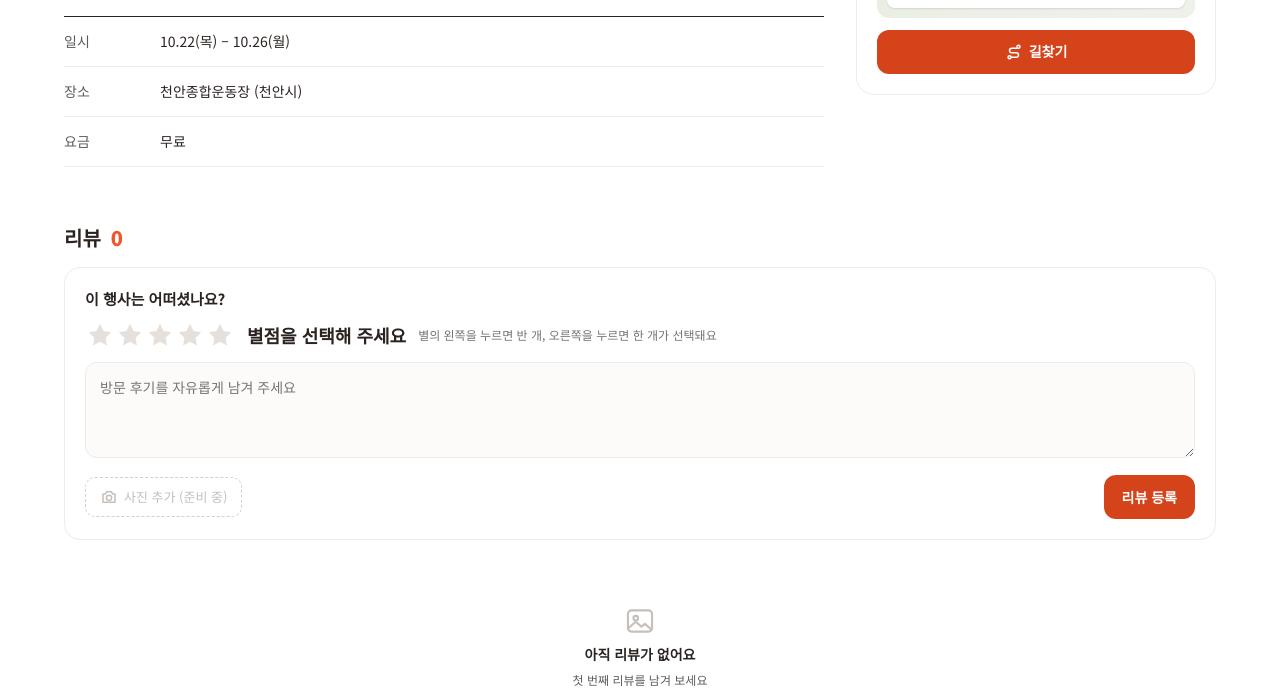
Test: EventDetail › REVIEW_ALREADY_EXISTS 는 친절한 안내를 보여준다
(page scrolled)
Click the radio button named "4점". click: (198,335)
box: x1=190 y1=320 x2=205 y2=350
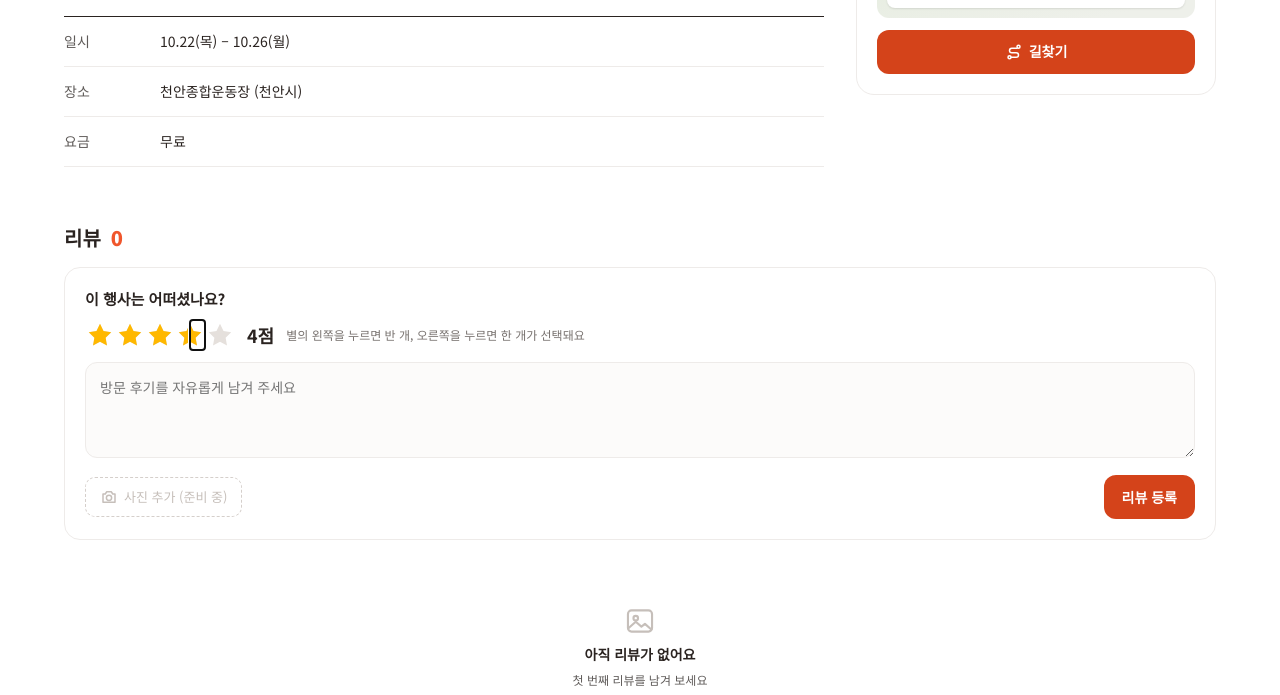
Type "좋아요" into the text box named "리뷰 내용". click: (640,410)
box: x1=85 y1=362 x2=1195 y2=458
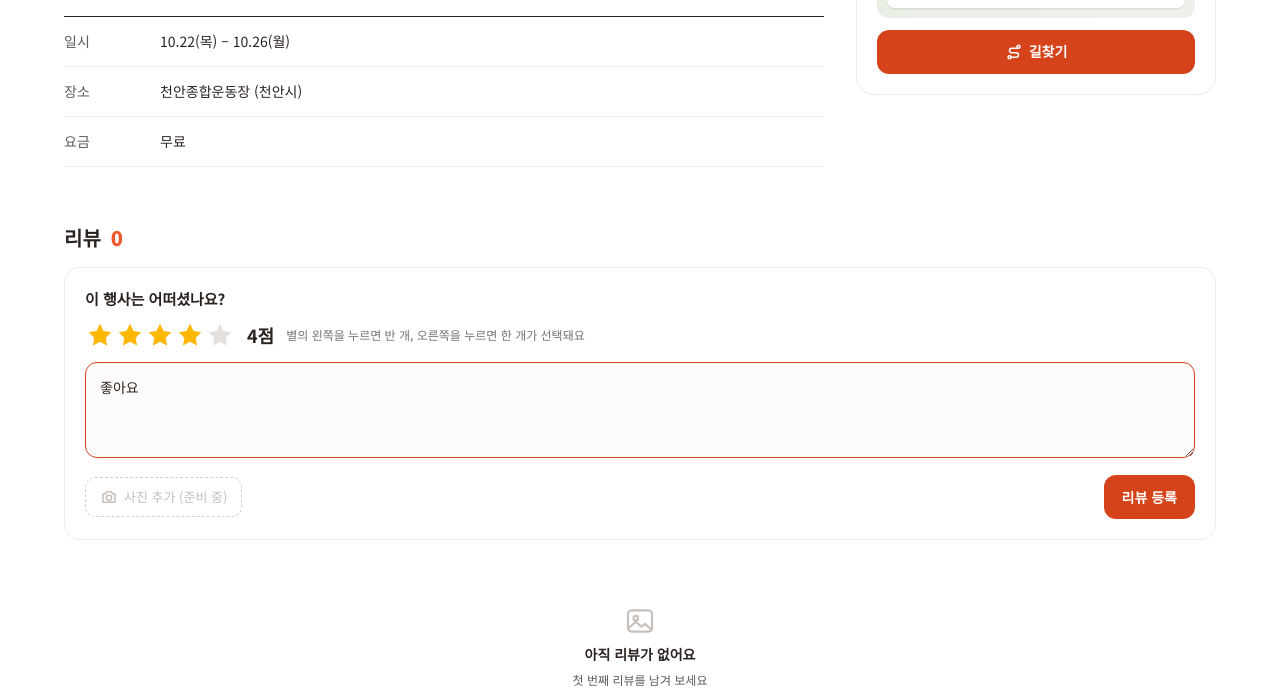
Click the button "리뷰 등록". click: (1149,497)
box: x1=1104 y1=475 x2=1195 y2=519
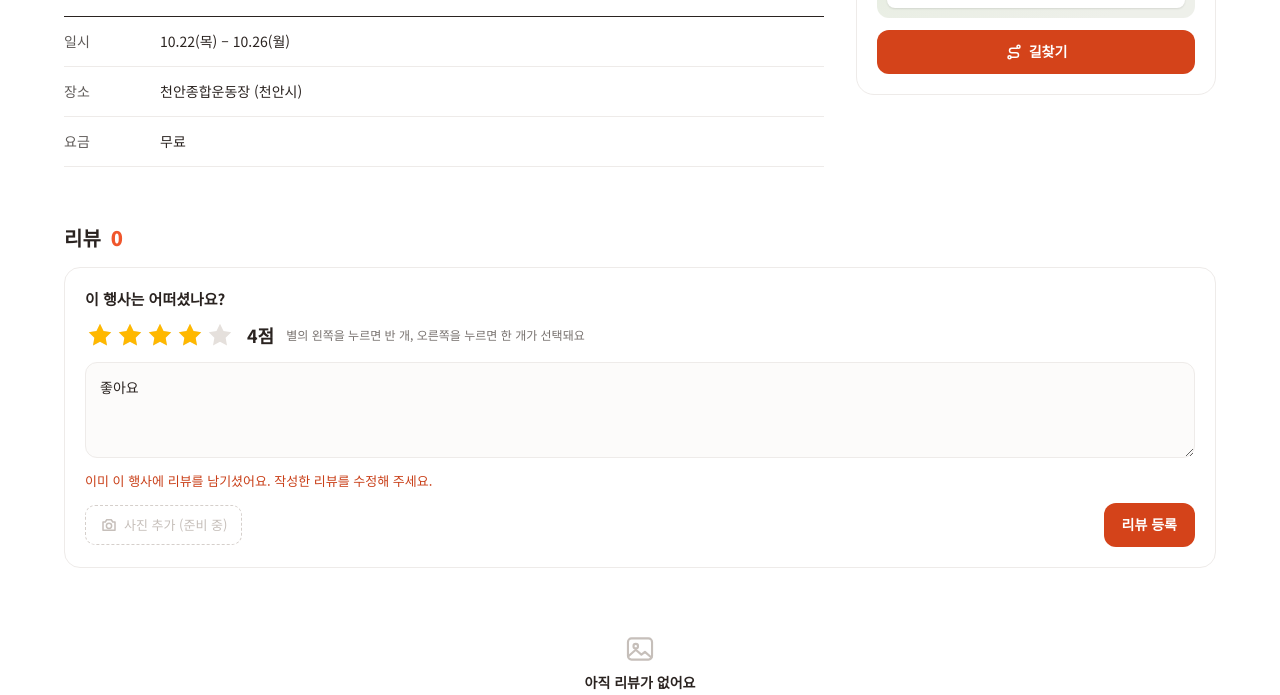
Check: the button "사진 추가 (준비 중)" is disabled, box x1=85 y1=504 x2=242 y2=544
Check: the message shows "이미 이 행사에 리뷰를 남기셨어요", box x1=85 y1=471 x2=432 y2=490
